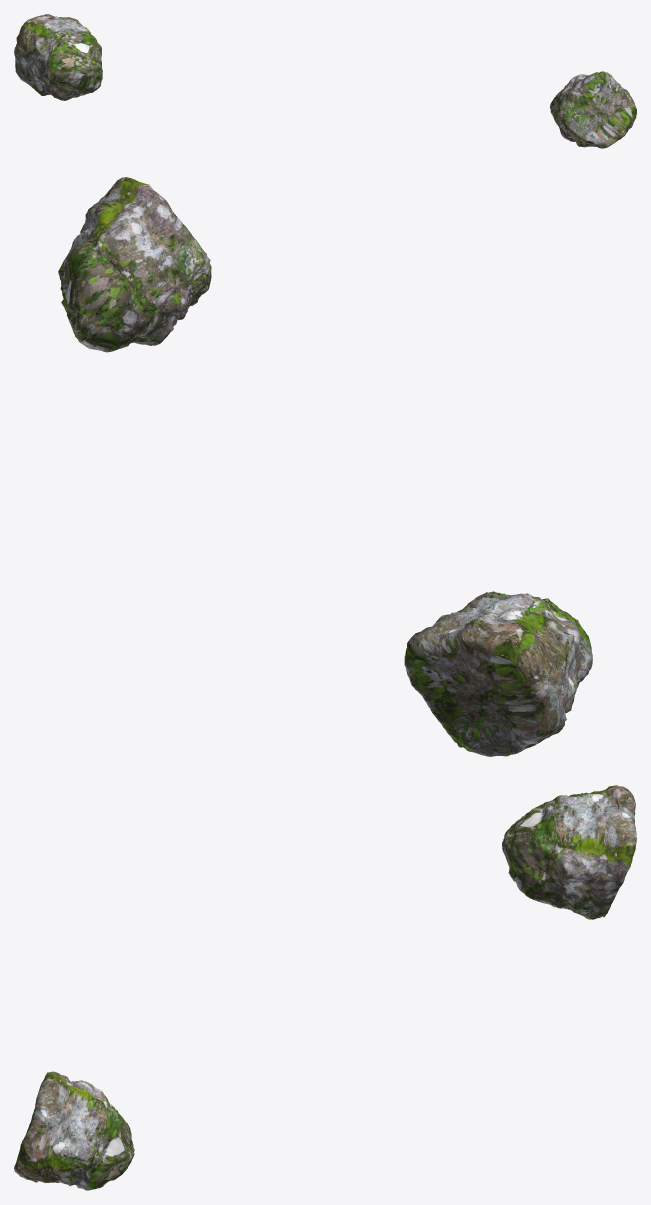
File: zebra.obj
The picture shows the model from 3 angles, top to bottom: view 1: azimuth 30°, elevation 25°; view 2: azimuth 150°, elevation 25°; view 3: azimuth 270°, elevation 25°; orthographic projection. The views are drawn at different scales.
Visible parts, largest first — view 1: cube002, cube1; view 2: cube002, cube1; view 3: cube002, cube1.
Part boxes in pixels (x1,y1,x2,y2): cube002: (14, 14, 102, 100); cube1: (550, 71, 636, 148); cube002: (404, 591, 592, 756); cube1: (58, 177, 211, 352); cube002: (502, 785, 636, 919); cube1: (14, 1071, 134, 1190).
Size of the model in its own units: 795 by 147 by 666.
Materials: 1 (1 with a texture image).
